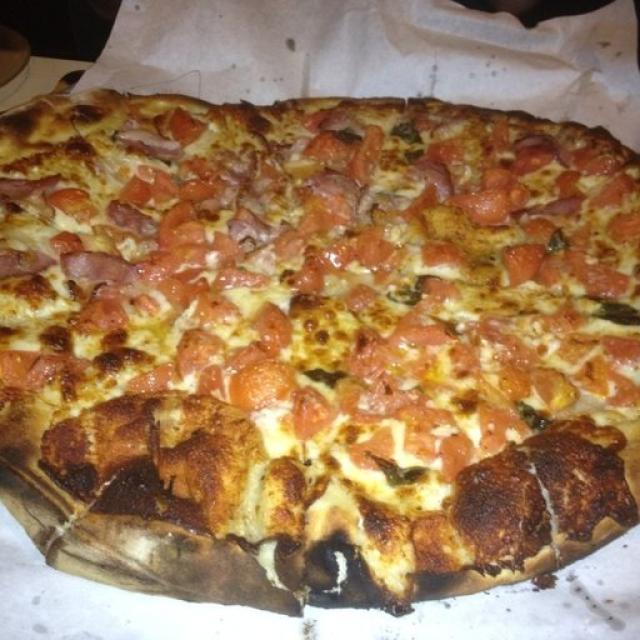Ham: (64, 253, 140, 296), (115, 128, 181, 155), (223, 146, 252, 207), (0, 248, 56, 278), (316, 172, 356, 213), (412, 163, 455, 198), (229, 210, 269, 242), (0, 177, 62, 196)
Pizza: (0, 89, 640, 619)
Tomato: (292, 234, 387, 287), (403, 397, 454, 478), (310, 129, 384, 175), (505, 360, 575, 408), (234, 359, 294, 412), (155, 205, 196, 271), (361, 337, 392, 419), (402, 290, 451, 341), (188, 293, 238, 330), (351, 429, 390, 474), (179, 332, 221, 373), (297, 391, 330, 443), (72, 300, 124, 332), (450, 196, 510, 223), (591, 175, 632, 210), (256, 306, 289, 349), (0, 355, 43, 387), (590, 269, 629, 301), (509, 240, 536, 286), (612, 207, 640, 245), (421, 240, 464, 264), (204, 368, 232, 403), (514, 150, 553, 175), (172, 110, 200, 142), (490, 409, 512, 448), (51, 227, 81, 252), (136, 367, 166, 392), (556, 171, 572, 214), (150, 175, 173, 202), (53, 188, 89, 205), (128, 175, 147, 204)
